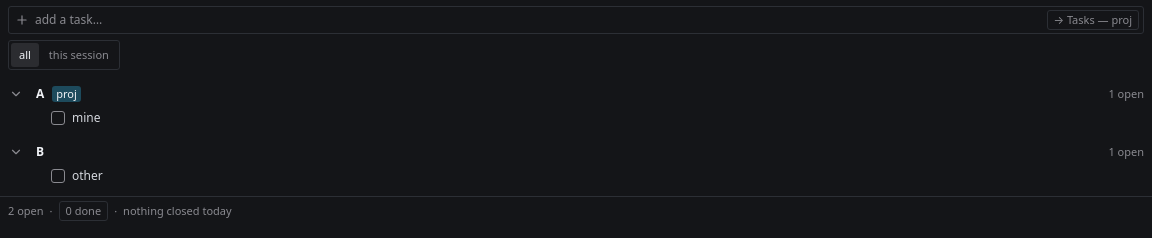
Test case: tasks and the selected session › filters to the notes tagged with the selected session's repository
Click the tab "this session": (79, 55) [41,43,117,67]
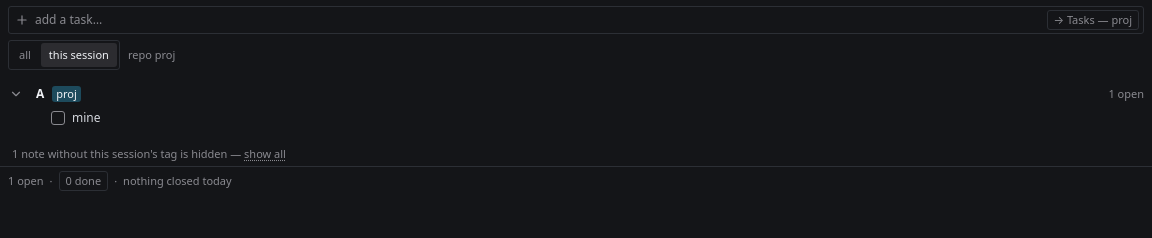
Check: the text "other" is gone
Check: the text "1 note without this session's tag is hidden — show all" is shown, box [12,146,286,162]
Check: the text "1 open" in the row of "nothing closed today" is shown, box [8,173,44,189]
